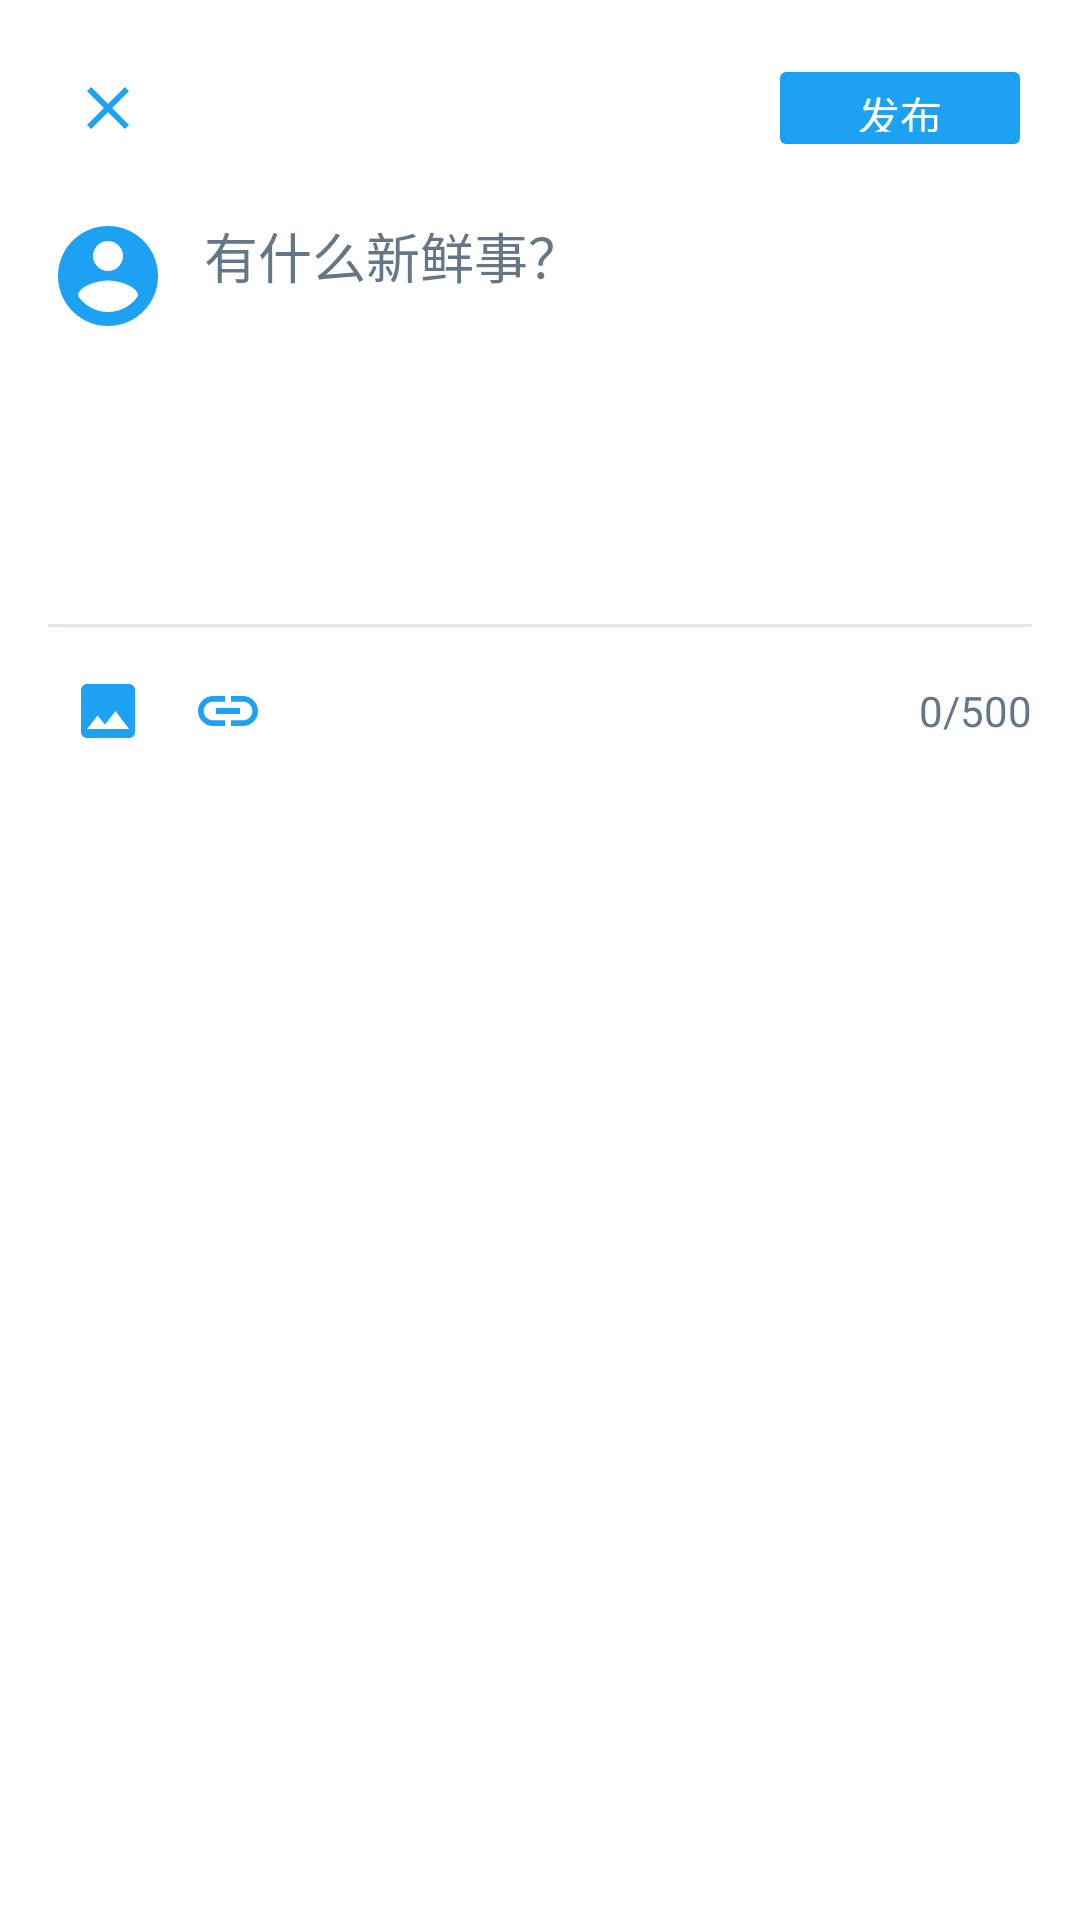

Screen size 1080x1920. Icon name, then its box in pixels as (x1,y1,x2,y2):
close: (87,87,129,129)
link: (198,696,258,726)
